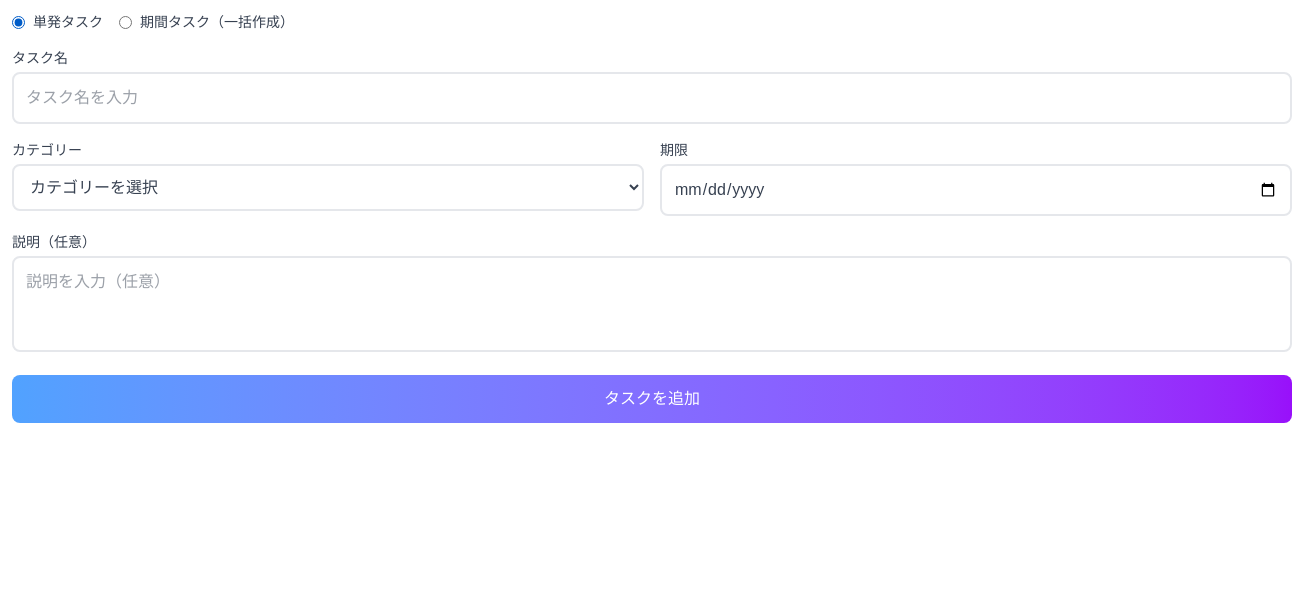
Test: タスク作成機能 › 一括作成機能 › 作成されるタスク数のプレビューが正しく表示されること
// 期間タスクモードに切り替え
Click the radio button labelled "期間タスク（一括作成）" at (126, 22), box [119,16,132,28]
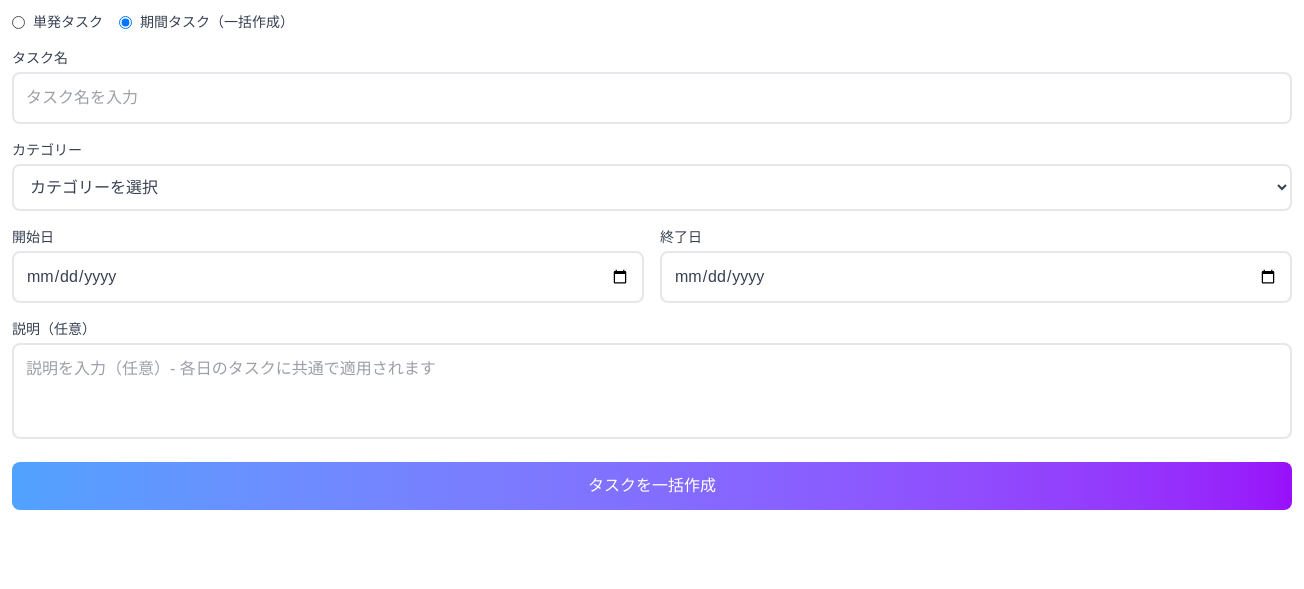
// 開始日と終了日を入力
Type "2025-08-13" into the date field labelled "開始日" at (328, 277), box [12,251,644,303]
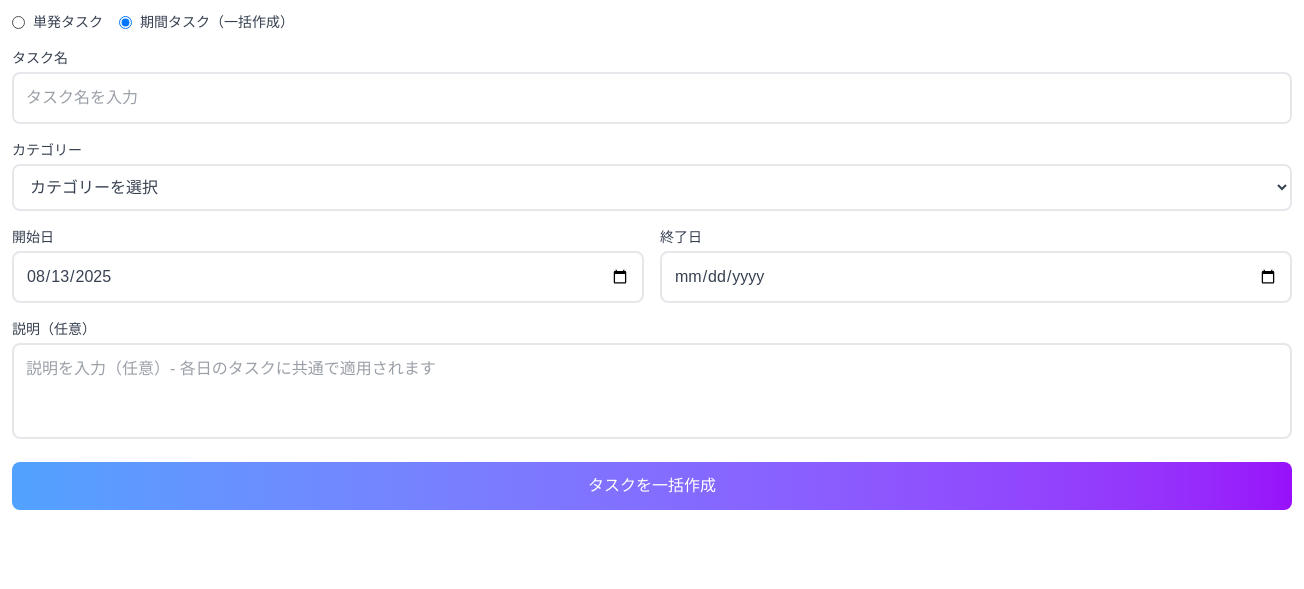
Type "2025-08-17" into the date field labelled "終了日" at (976, 277), box [660,251,1292,303]
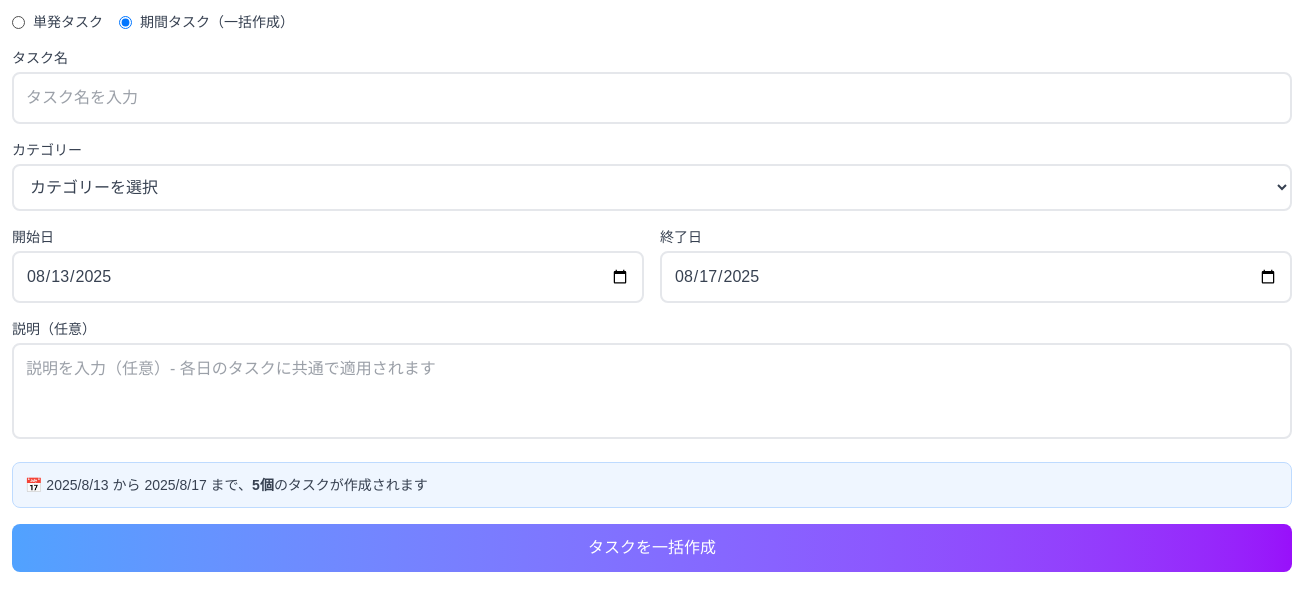
Result: the text "5個" is shown at [252,477,274,493]
Result: the text "のタスクが作成されます" is shown at [274,477,428,493]
